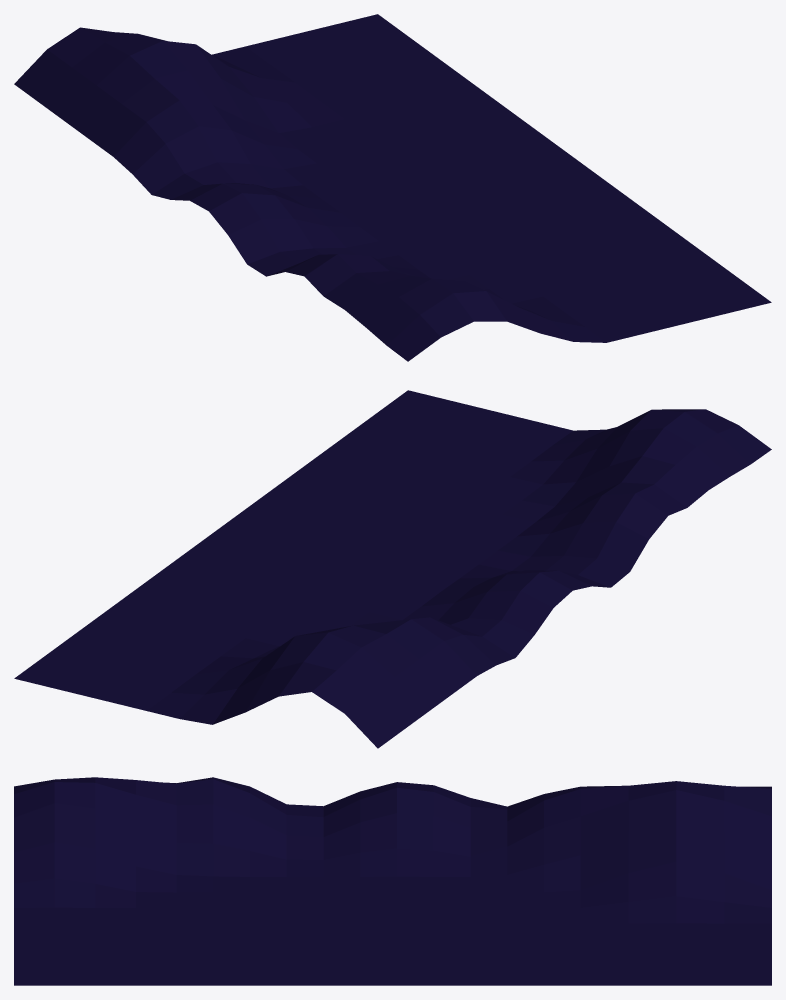
File: Ground.glb
3 views of the same model, one above another, from view 1: azimuth 30°, elevation 25°; view 2: azimuth 150°, elevation 25°; view 3: azimuth 270°, elevation 25° (orthographic). The views are drawn at different scales.
Parts seen in each view (by area): view 1: Plane.001; view 2: Plane.001; view 3: Plane.001.
Part boxes in pixels (x1,y1,x2,y2): Plane.001: (14,14,771,361); Plane.001: (14,390,771,748); Plane.001: (14,777,771,985).
Bounding box in the file's own units: 33.89 × 6.61 × 63.55.
